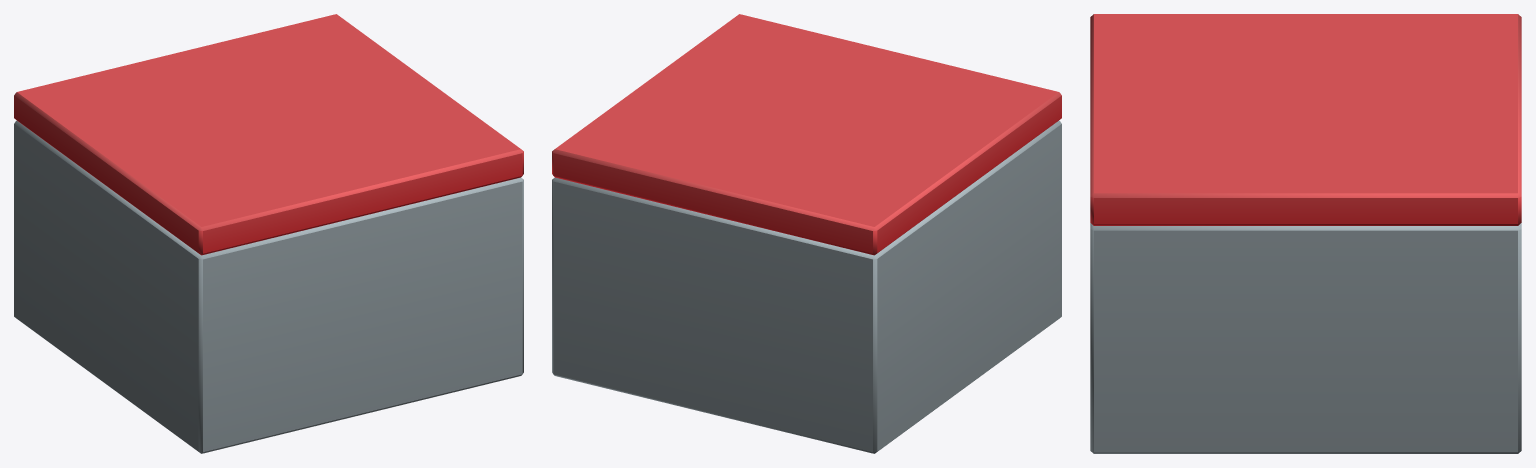
The model's file is kaykit_platform_6x6x4_red.glb.
The picture shows the model from 3 angles, left to right: view 1: azimuth 30°, elevation 25°; view 2: azimuth 150°, elevation 25°; view 3: azimuth 270°, elevation 25°; orthographic projection. The views are drawn at different scales.
Visible parts, largest first — view 1: platform_6x6x4_red_visual; view 2: platform_6x6x4_red_visual; view 3: platform_6x6x4_red_visual.
Part boxes in pixels (box(x1,y1,x2,y2)): platform_6x6x4_red_visual: box(14, 14, 523, 453); platform_6x6x4_red_visual: box(552, 14, 1061, 453); platform_6x6x4_red_visual: box(1090, 14, 1521, 453).
Size of what is drawn, in the model's own units: 6 by 4 by 6.
1 material, 1 textured.
